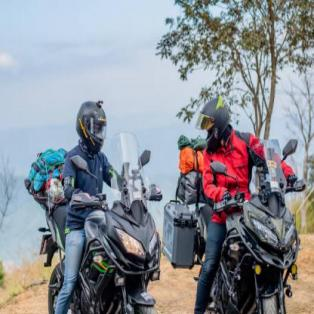Motocicleta: (29, 162, 160, 313), (181, 164, 304, 313)
